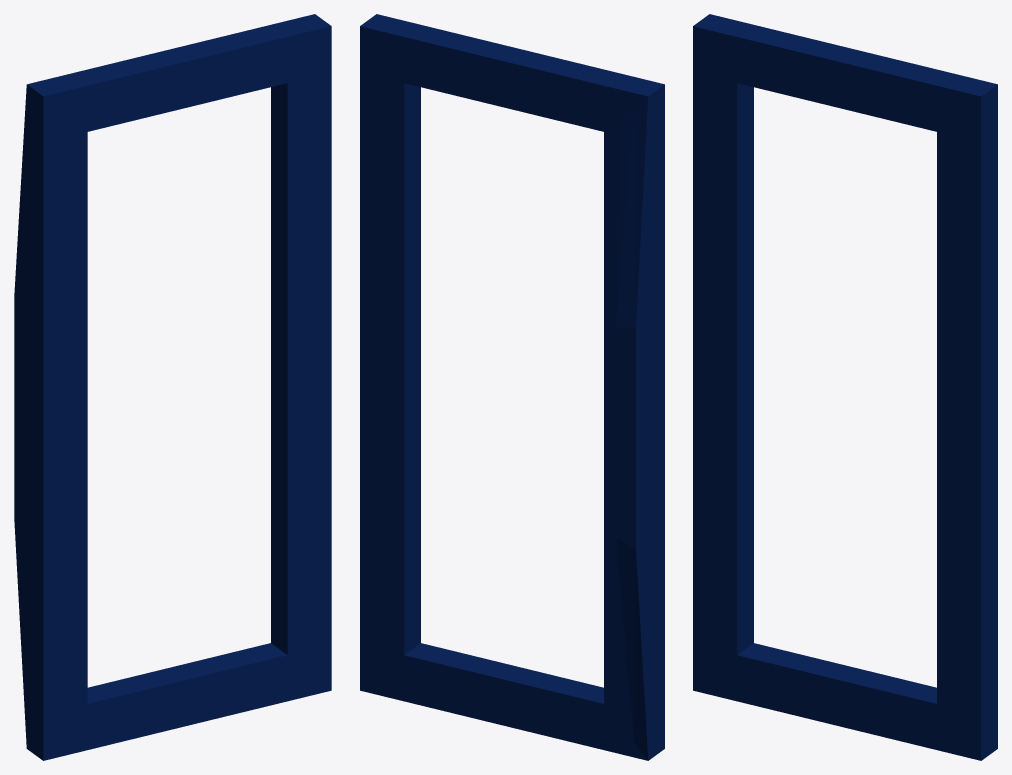
The model's file is refri_puerta_3.obj.
3 views of the same model, side by side, from view 1: azimuth 30°, elevation 25°; view 2: azimuth 150°, elevation 25°; view 3: azimuth 330°, elevation 25° (orthographic).
Visible parts, largest first — view 1: Cubo.024_Cubo.029; view 2: Cubo.024_Cubo.029; view 3: Cubo.024_Cubo.029.
Part boxes in pixels (left/top/right/bottom): Cubo.024_Cubo.029: left=14, top=14, right=331, bottom=760; Cubo.024_Cubo.029: left=360, top=14, right=664, bottom=760; Cubo.024_Cubo.029: left=693, top=14, right=997, bottom=760.
Bounding box in the file's own units: 1 × 2.2 × 0.1748.
